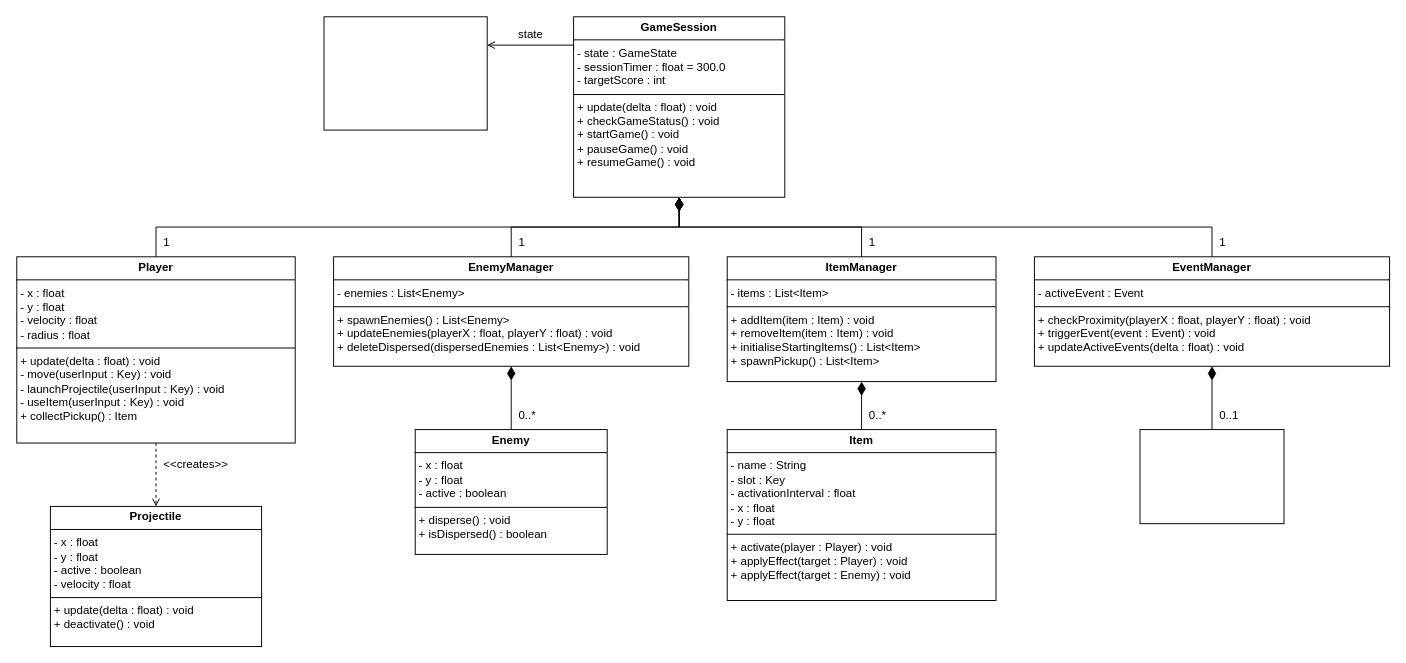
Image size: 1406x663. Some labels were removed from this diagram. The shapes that lost their labels are listed below. From the top down, each one's box as (x1, y1, x2, y2) in pixels, then its label:
(323, 16, 487, 130): <<enumeration>> GameState LIVE PAUSED WIN LOSE
(1139, 429, 1284, 524): Event - duration : float + apply() : void + end() : void
